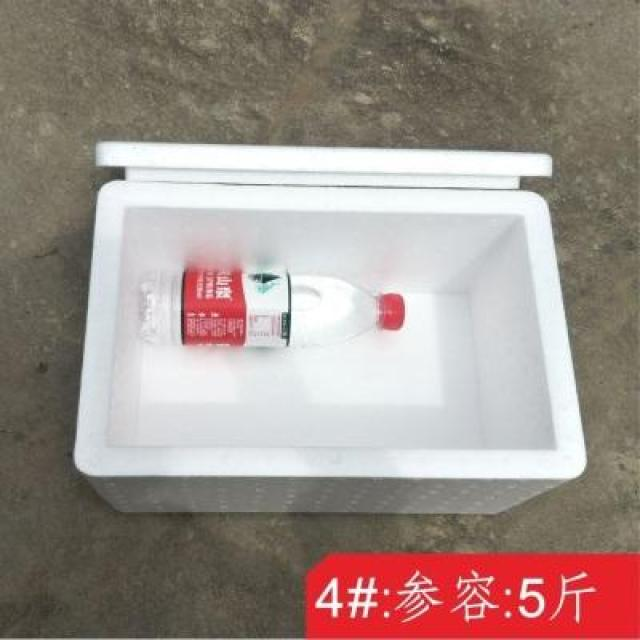styrofoam: (70, 138, 589, 515)
